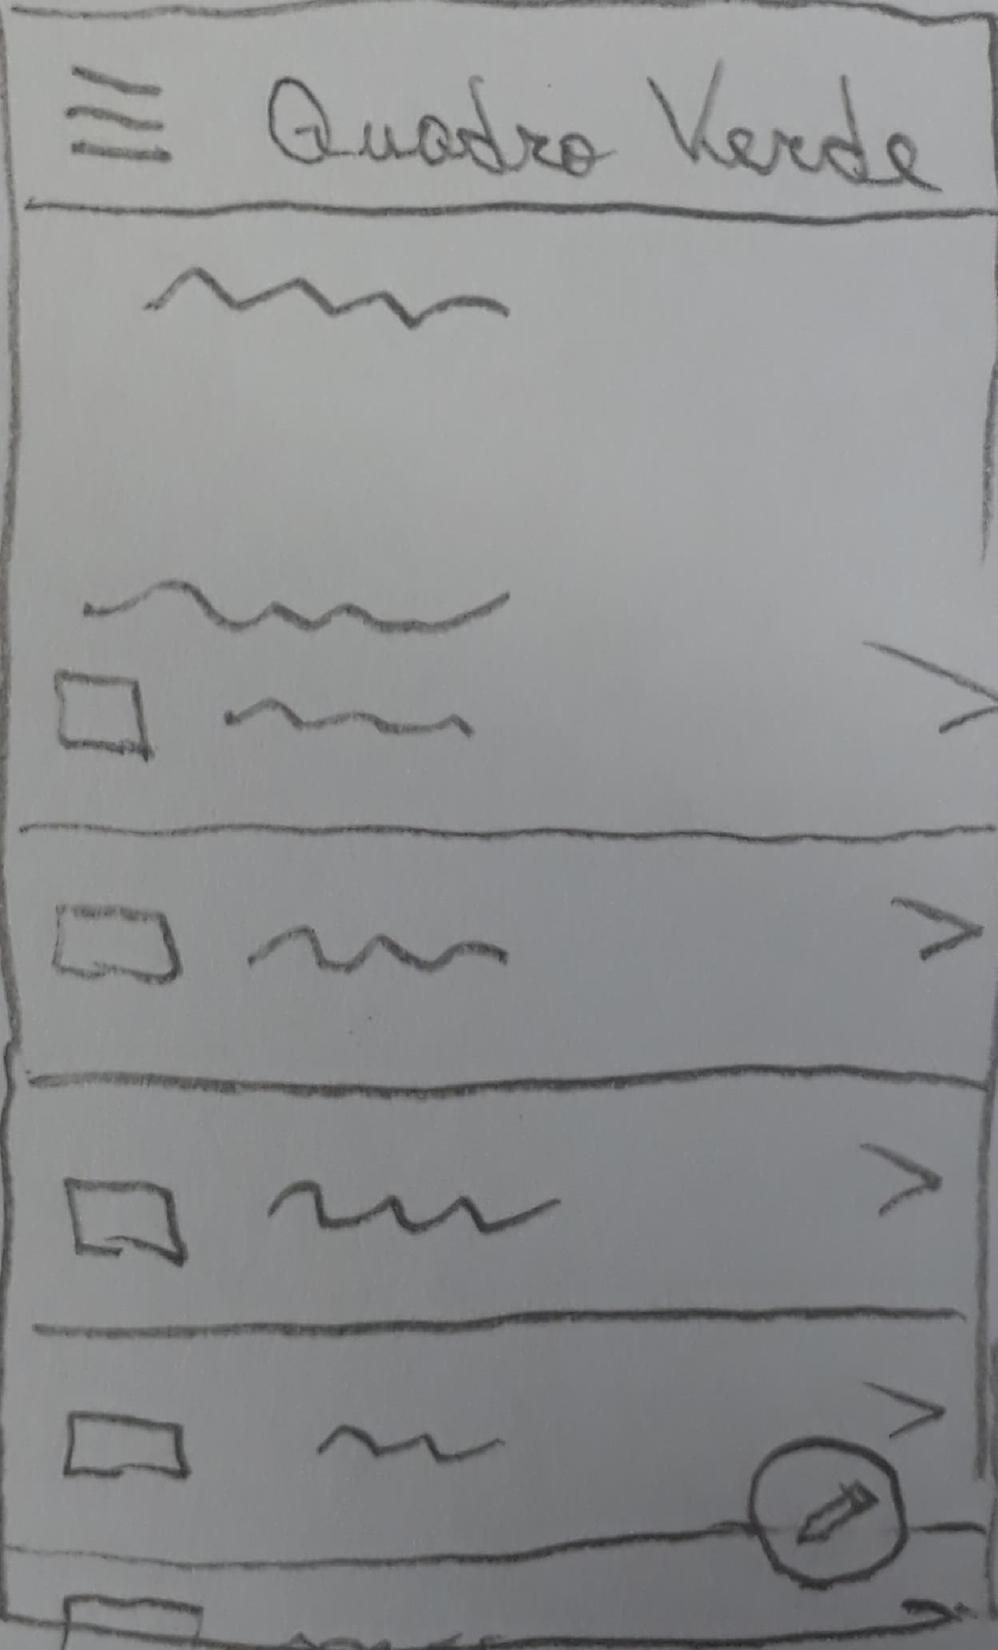Button: (66, 62, 177, 164)
CheckBox: (61, 1169, 564, 1273), (53, 665, 483, 765), (47, 899, 515, 989), (58, 1408, 516, 1485)
Label: (264, 67, 943, 193), (79, 575, 515, 643), (147, 256, 513, 336)
Screen: (1, 2, 994, 1649)
